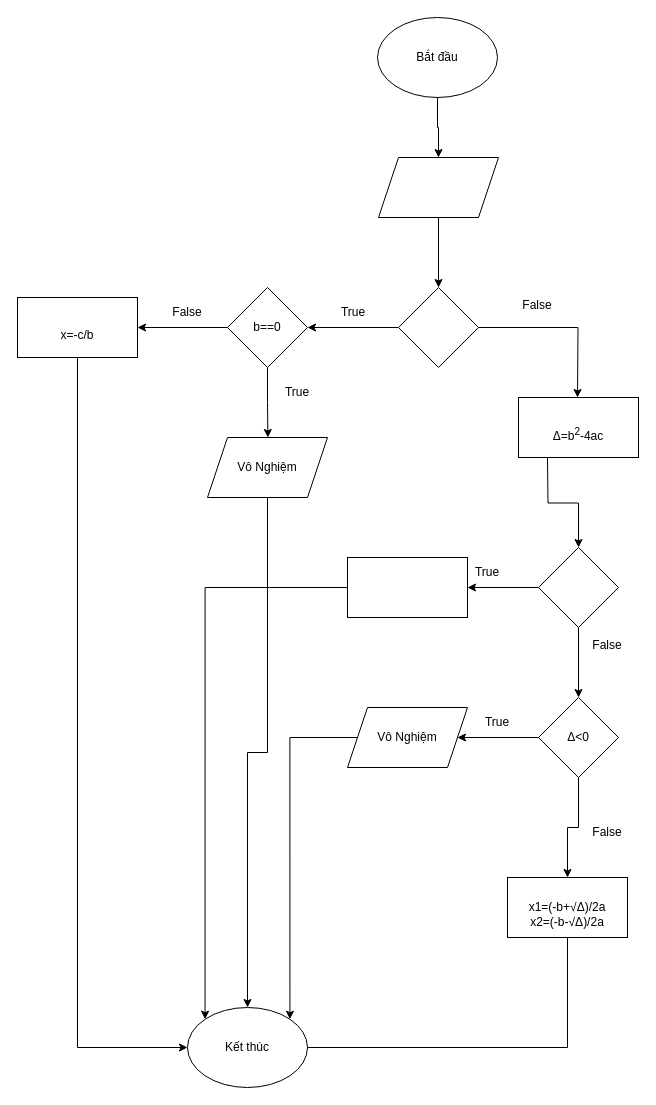
The diagram is 656 pixels wide and 1105 high, and some of its shapes have lost their labels. Here are the shapes that lost their labels. From the top down, the centre of each, then its label:
the point at 438,187: a,b,c
the point at 438,327: a==0
the point at 407,587: x1=x2=-b/2a
the point at 578,587: Δ=0
